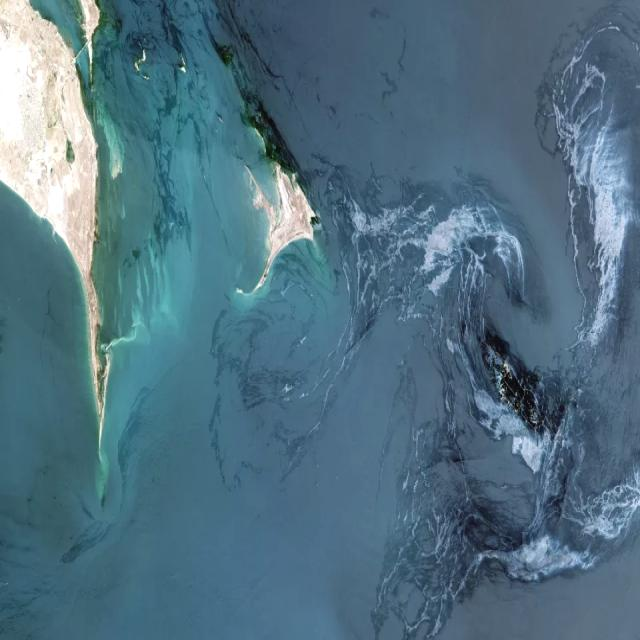oil spill: (357, 204, 581, 638), (538, 11, 639, 344), (372, 368, 477, 639), (330, 169, 501, 333), (209, 312, 299, 485), (478, 535, 595, 581), (564, 469, 639, 540)
